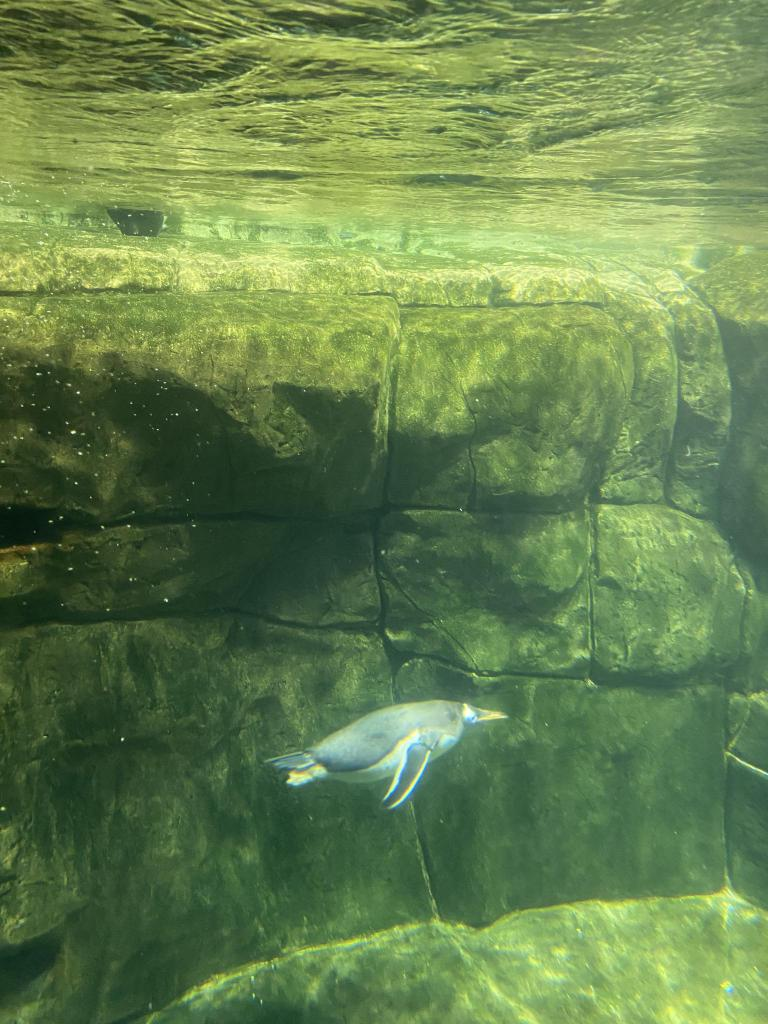penguin: (259, 700, 507, 814)
